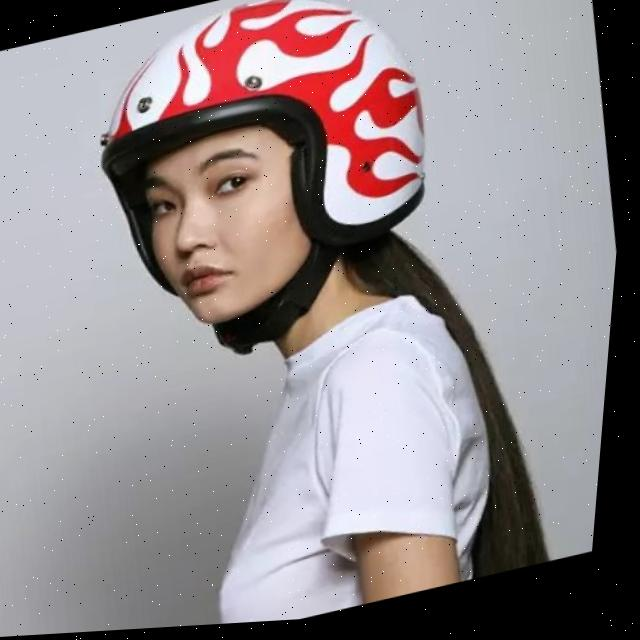helmet: (52, 0, 483, 399)
